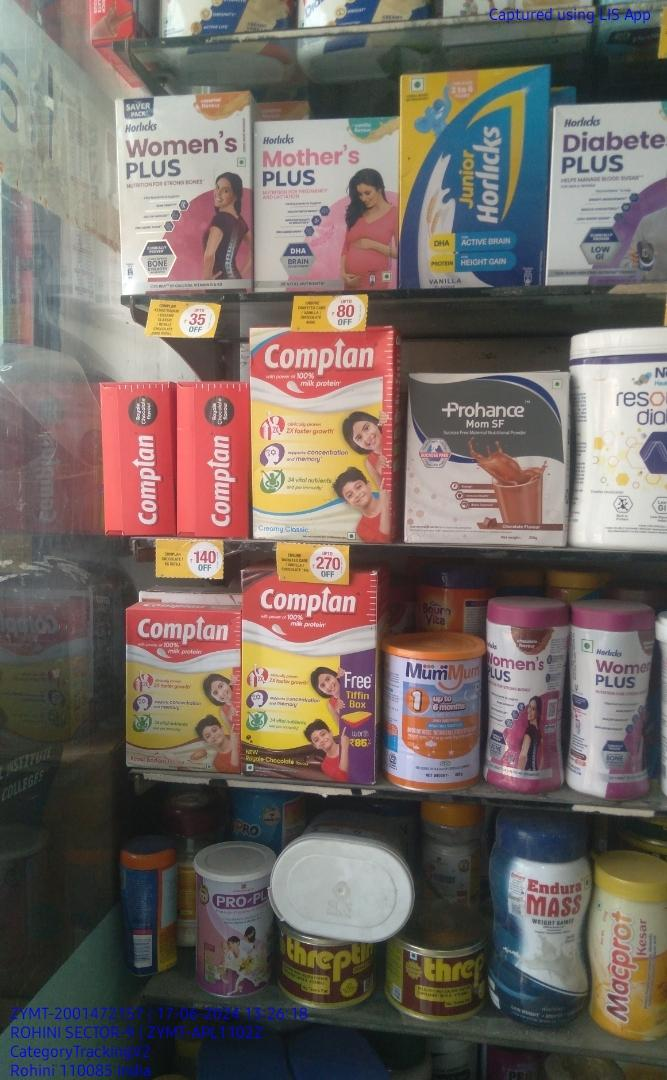COMPLAN_CHOCOLATE_500_GMS_PACK: (243, 582, 376, 782)
COMPLAN_CREAMY_CLASSIC_500_G_PACK: (254, 330, 391, 540)
COMPLAN_KESAR_BADAM_500_GMS_PACK: (128, 608, 238, 770)
